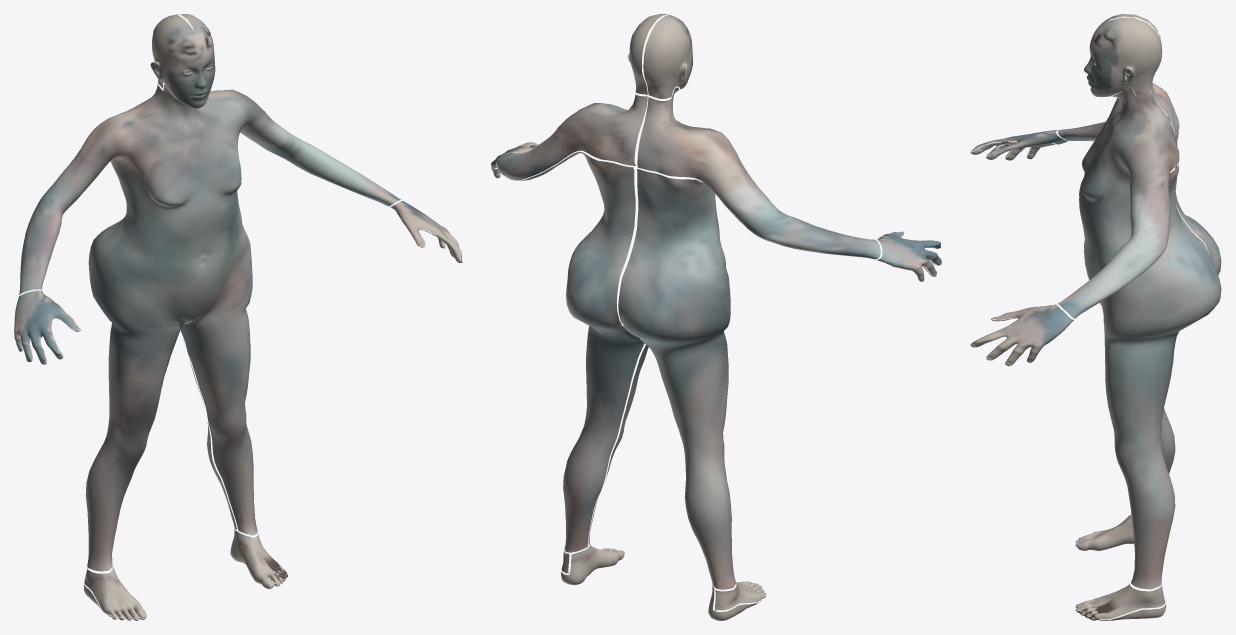
Rendered from body_mesh.glb.
3 views of the same model, side by side, from view 1: azimuth 30°, elevation 25°; view 2: azimuth 150°, elevation 25°; view 3: azimuth 270°, elevation 25° (orthographic).
Visible parts, largest first — view 1: base_male.obj; view 2: base_male.obj; view 3: base_male.obj.
Boxes of the visible parts, <box> form: base_male.obj: <box>14,14,462,620</box>; base_male.obj: <box>491,14,941,620</box>; base_male.obj: <box>970,14,1221,620</box>.
Size of the model in its own units: 1.38 by 1.75 by 0.7048.
